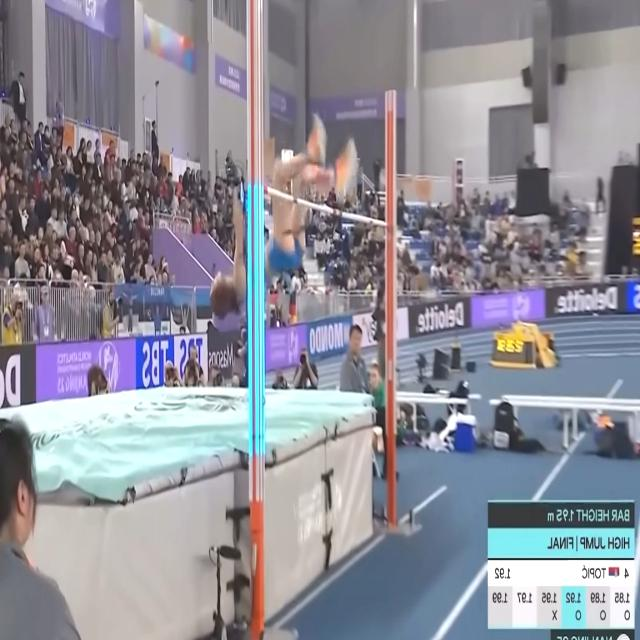land: (208, 110, 360, 322)
